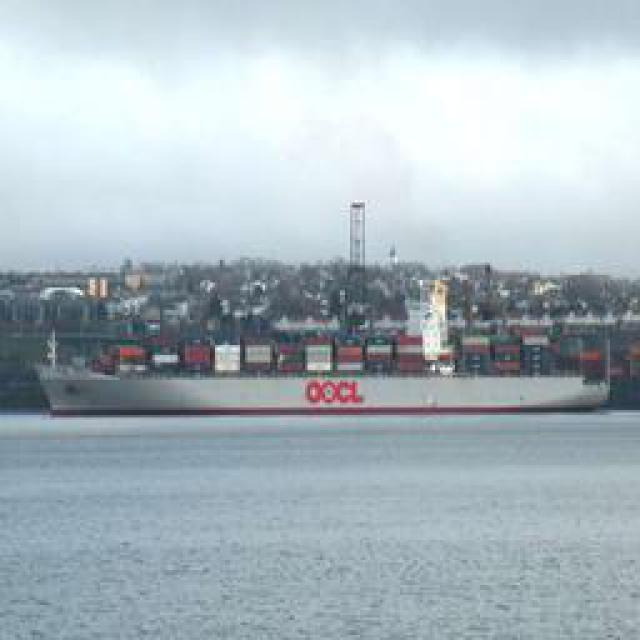Ship: (33, 323, 608, 418)
